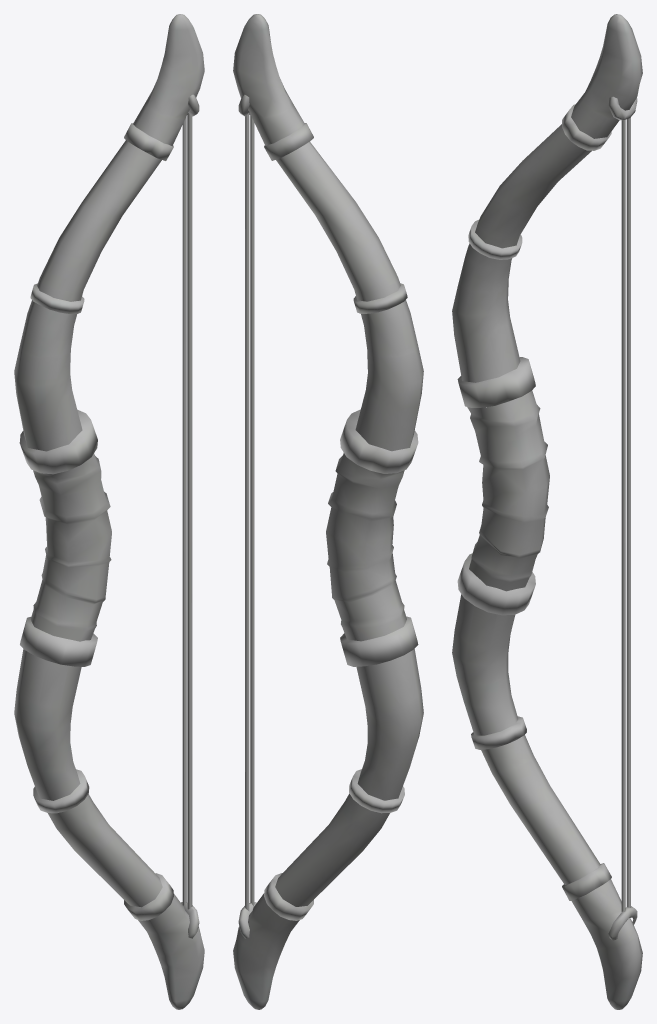
Rendered from winterbite.glb.
3 views of the same model, side by side, from view 1: azimuth 30°, elevation 25°; view 2: azimuth 150°, elevation 25°; view 3: azimuth 330°, elevation 25° (orthographic).
Parts seen in each view (by area): view 1: tripo_node_77066ed5-286c-4c20-9a40-2ae78e5aad9e; view 2: tripo_node_77066ed5-286c-4c20-9a40-2ae78e5aad9e; view 3: tripo_node_77066ed5-286c-4c20-9a40-2ae78e5aad9e.
Part boxes in pixels (x1,y1,x2,y2): tripo_node_77066ed5-286c-4c20-9a40-2ae78e5aad9e: [14, 14, 204, 1009]; tripo_node_77066ed5-286c-4c20-9a40-2ae78e5aad9e: [233, 14, 423, 1009]; tripo_node_77066ed5-286c-4c20-9a40-2ae78e5aad9e: [452, 14, 642, 1009].
Bounding box in the file's own units: 0.3509 × 1.8 × 0.1222.
1 material, 1 textured.
